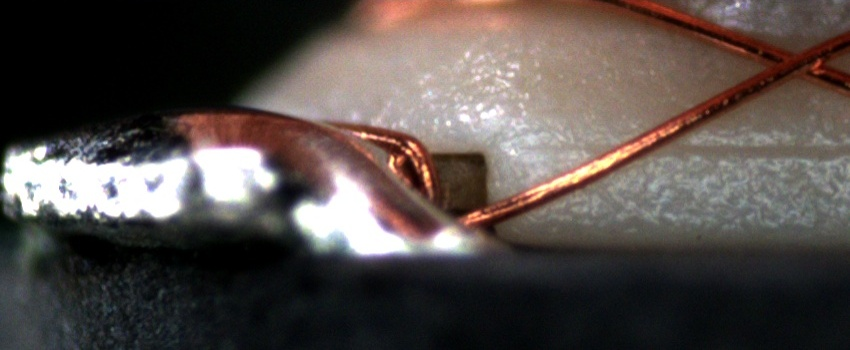CL: (750, 35, 840, 87)
DL: (561, 121, 850, 178)
TE: (338, 117, 452, 211)
